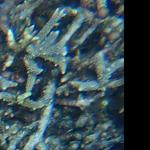dead: (1, 1, 123, 148)
